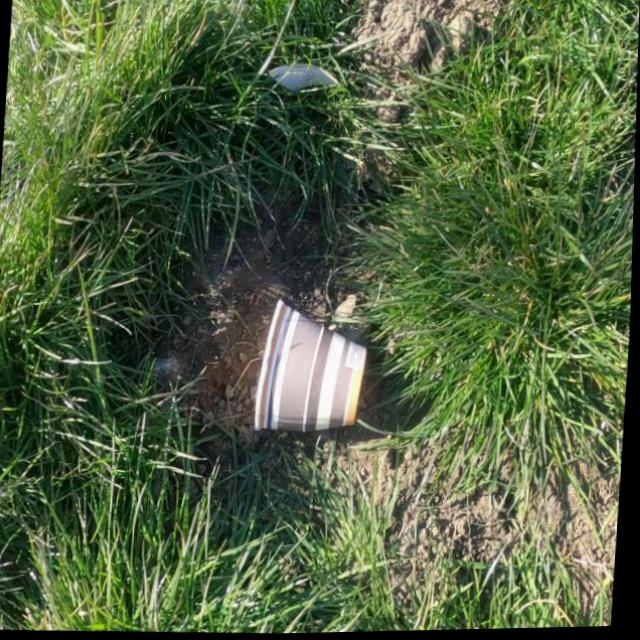Cup: (250, 295, 372, 437)
